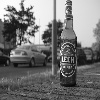beer: (57, 1, 77, 87)
